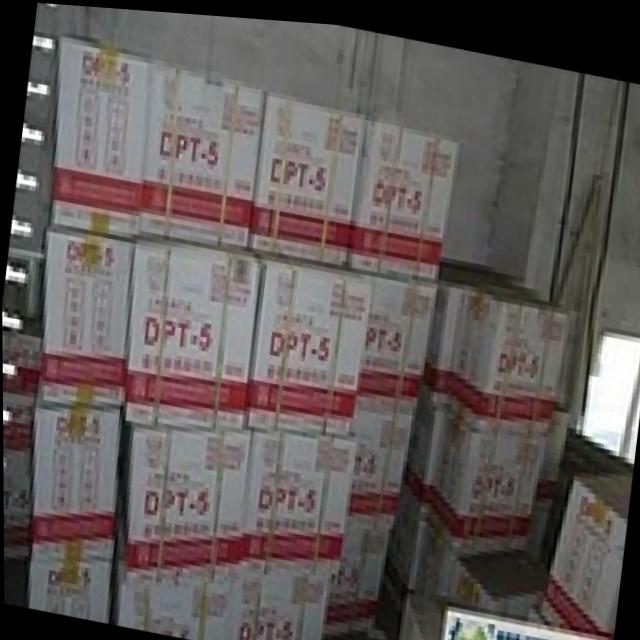box: (124, 232, 260, 425), (136, 61, 264, 248), (240, 249, 368, 431), (119, 419, 250, 583), (46, 37, 151, 236), (251, 86, 362, 261), (416, 250, 539, 401), (448, 280, 569, 429), (347, 114, 459, 273), (448, 285, 569, 428), (424, 401, 545, 544), (38, 230, 133, 404), (237, 427, 353, 569), (538, 467, 631, 629), (30, 403, 119, 561), (347, 261, 439, 400), (113, 562, 237, 640), (342, 398, 415, 523), (228, 565, 331, 640), (448, 538, 549, 613), (323, 523, 391, 633), (376, 491, 424, 627), (401, 396, 448, 515), (27, 561, 111, 621), (2, 316, 42, 430), (2, 424, 31, 563), (534, 393, 567, 504), (416, 510, 457, 590), (416, 519, 457, 590), (397, 589, 448, 640)
